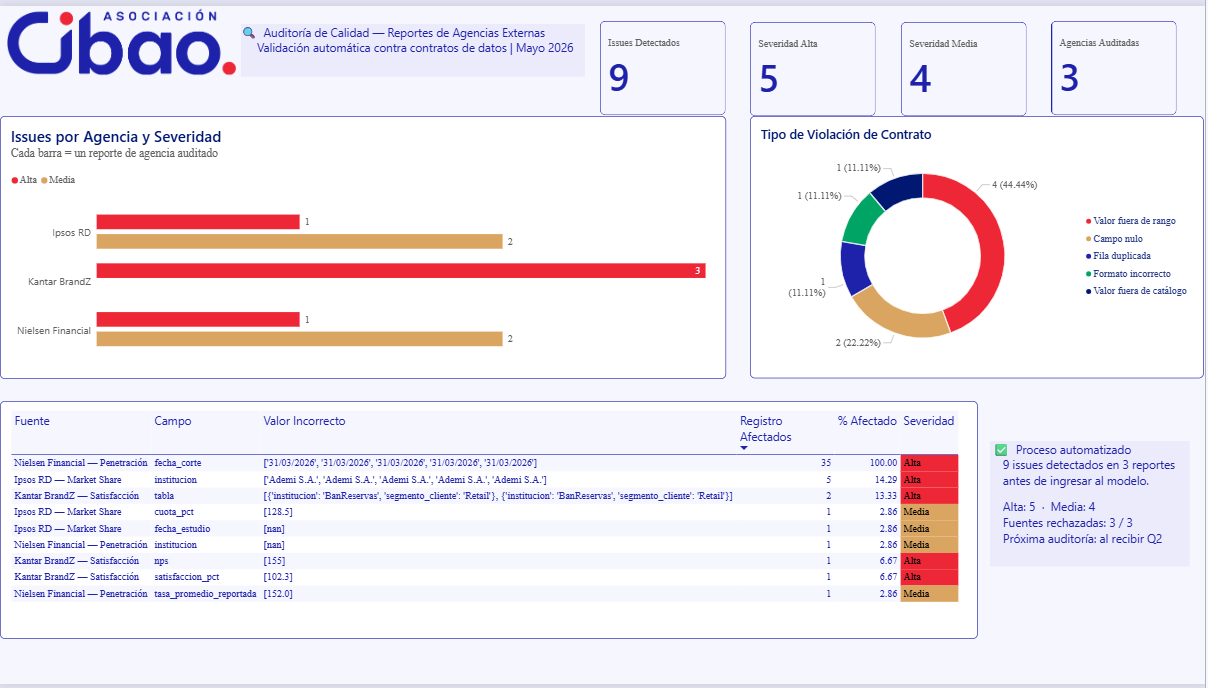

Layout of this report page (visuals, bound fields, positions):
{"tool":"powerbi","page":{"name":"Calidad de Datos","canvas":[1920,1080],"ordinal":5},"visuals":[{"type":"clusteredBarChart","title":"Issues por Agencia y Severidad","fields":{"Category":["agency_critique_report.Fuentes"],"Series":["agency_critique_report.severidad"],"Y":["agency_critique_report.Total_Issues"]},"box":[0,175.4,1157,418.8],"z":0},{"type":"tableEx","title":"Posicionamiento de Precios ACAP","fields":{"Values":["agency_critique_report.Nombre_Fuente","agency_critique_report.campo","agency_critique_report.valor_incorrecto","agency_critique_report.registros_afectados","agency_critique_report.pct_afectado","agency_critique_report.severidad"]},"box":[0,629,1557.5,379],"z":1000},{"type":"cardVisual","fields":{"Data":["agency_critique_report.Issues_Media"]},"box":[1435.1,25,200.2,150.1],"z":2000},{"type":"cardVisual","fields":{"Data":["agency_critique_report.Issues_Alta"]},"box":[1195.4,25,200.2,150.1],"z":3000},{"type":"cardVisual","fields":{"Data":["agency_critique_report.Total_Issues"]},"box":[955.7,24.6,200.2,150.1],"z":4000},{"type":"cardVisual","fields":{"Data":["agency_critique_report.Fuentes_Auditadas"]},"box":[1674.7,24.6,200.2,150.1],"z":5000},{"type":"donutChart","title":"Tipo de Violación de Contrato","fields":{"Category":["agency_critique_report.categoria_clean"],"Y":["agency_critique_report.Total_Issues"]},"box":[1195.3,175.4,723.1,418.1],"z":6000},{"type":"image","box":[0,0,383.6,113.1],"z":7000},{"type":"textbox","box":[384,28.1,547.9,84.4],"z":8000},{"type":"textbox","box":[1577.4,693.5,317.8,200.3],"z":9000}]}

Visuals, with their boxes in screenshot pixels (x1, y1, x2, y2), scaled from the page's 1920x1080 canvas onto the 1208x688 screenshot:
"Issues por Agencia y Severidad" clusteredBarChart: [0, 112, 728, 379]
"Posicionamiento de Precios ACAP" tableEx: [0, 401, 980, 642]
cardVisual - agency_critique_report.Issues_Media: [903, 16, 1029, 112]
cardVisual - agency_critique_report.Issues_Alta: [752, 16, 878, 112]
cardVisual - agency_critique_report.Total_Issues: [601, 16, 727, 111]
cardVisual - agency_critique_report.Fuentes_Auditadas: [1054, 16, 1180, 111]
"Tipo de Violación de Contrato" donutChart: [752, 112, 1207, 378]
image: [0, 0, 241, 72]
textbox: [242, 18, 586, 72]
textbox: [992, 442, 1192, 569]
